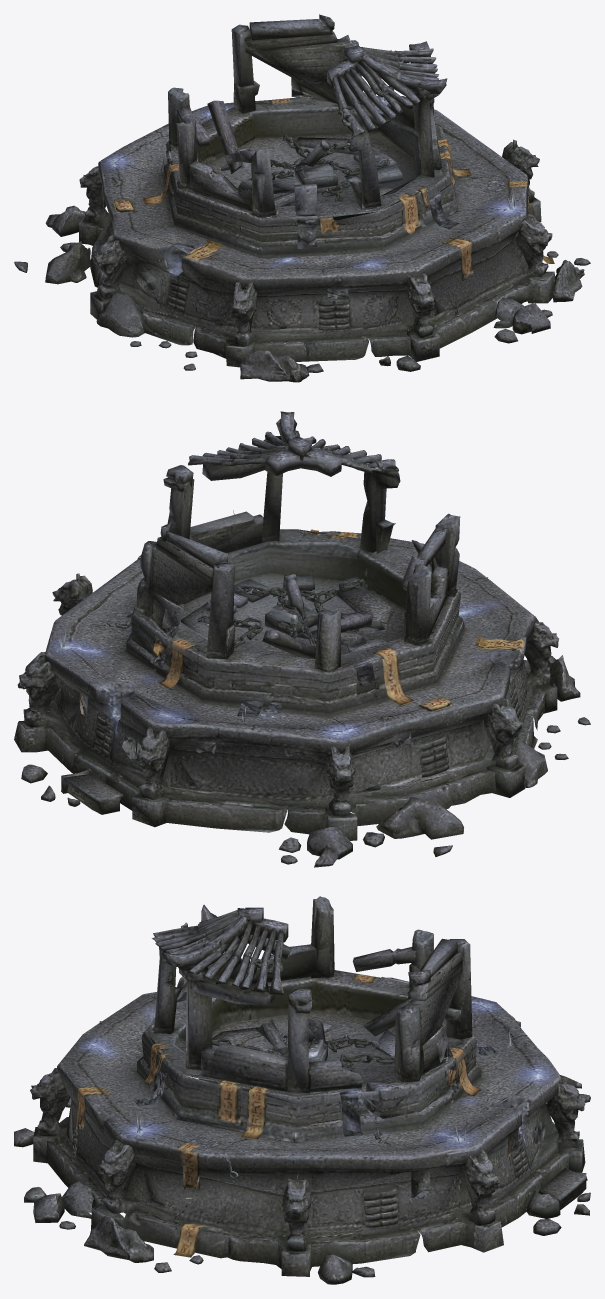
File: taji.glb
The picture shows the model from 3 angles, top to bottom: view 1: azimuth 30°, elevation 25°; view 2: azimuth 150°, elevation 25°; view 3: azimuth 270°, elevation 25°; orthographic projection. The views are drawn at different scales.
Parts seen in each view (by area): view 1: tripo_node_1673fe49-02b9-4816-9d1d-a2a850acf1c8; view 2: tripo_node_1673fe49-02b9-4816-9d1d-a2a850acf1c8; view 3: tripo_node_1673fe49-02b9-4816-9d1d-a2a850acf1c8.
Boxes of the visible parts, <box> form: tripo_node_1673fe49-02b9-4816-9d1d-a2a850acf1c8: <box>14,14,590,382</box>; tripo_node_1673fe49-02b9-4816-9d1d-a2a850acf1c8: <box>14,411,590,867</box>; tripo_node_1673fe49-02b9-4816-9d1d-a2a850acf1c8: <box>14,896,590,1284</box>.
Bounding box in the file's own units: 0.998 × 0.5098 × 0.998.
1 material, 1 textured.
